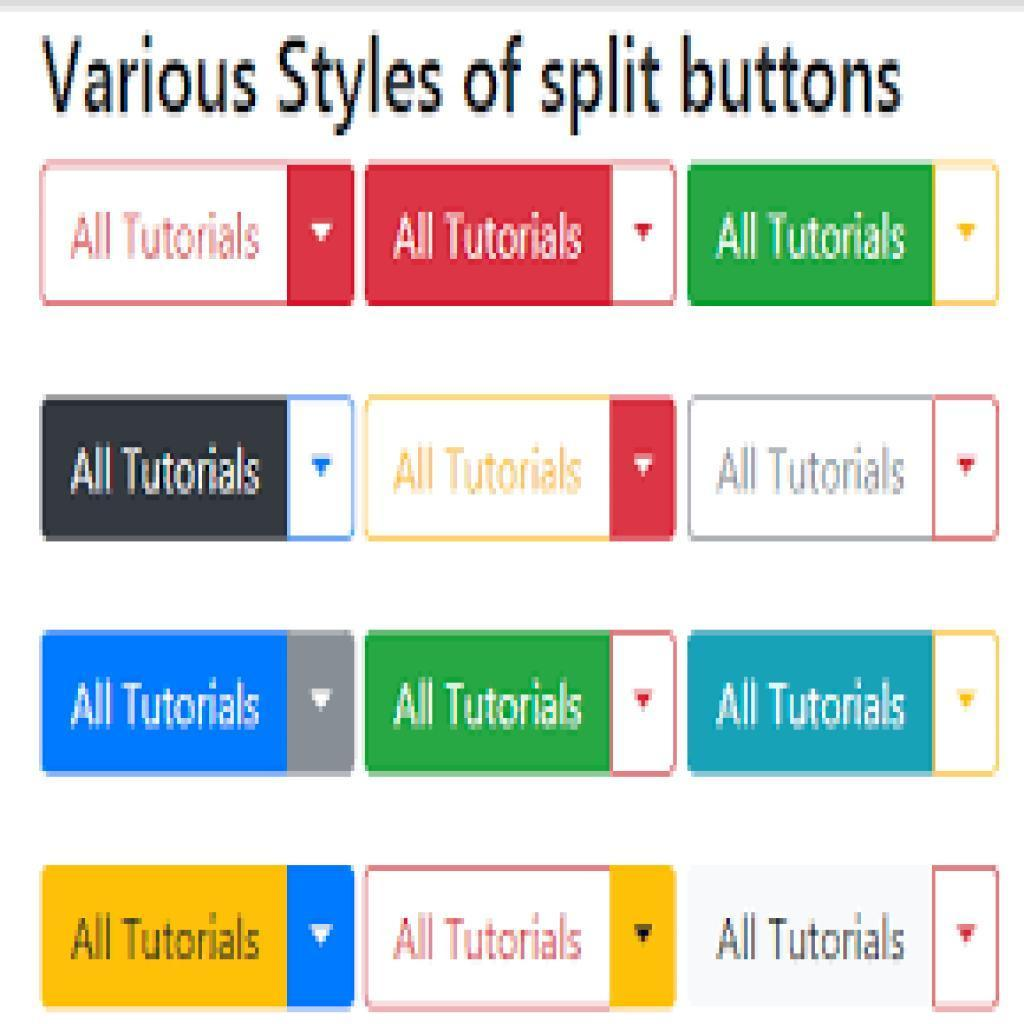dropdown: (35, 388, 356, 551), (362, 391, 683, 550), (33, 859, 357, 1013), (691, 859, 1005, 1015), (362, 160, 683, 310), (684, 630, 1006, 779), (34, 161, 359, 308), (692, 394, 1004, 544), (41, 629, 357, 777), (363, 630, 678, 778), (366, 865, 679, 1012), (689, 163, 999, 307)
